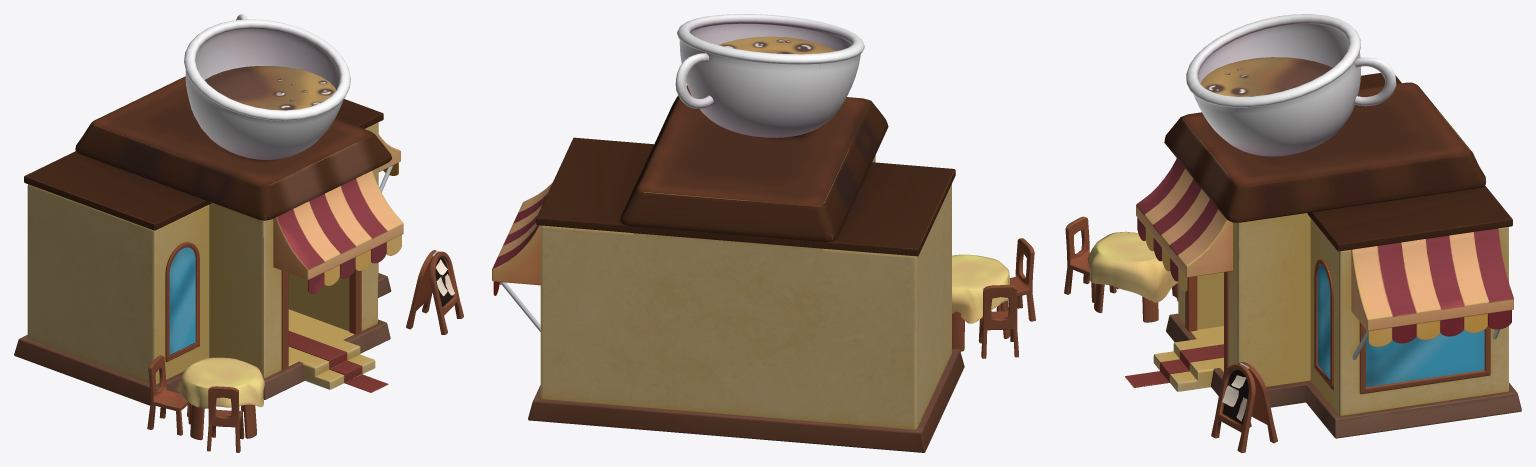
File: building1_lambert1_0.002_lev2.glb
The picture shows the model from 3 angles, left to right: view 1: azimuth 30°, elevation 25°; view 2: azimuth 150°, elevation 25°; view 3: azimuth 270°, elevation 25°; orthographic projection. The views are drawn at different scales.
Parts seen in each view (by area): view 1: building1_lambert1_0.002_lev2; view 2: building1_lambert1_0.002_lev2; view 3: building1_lambert1_0.002_lev2.
Boxes of the visible parts, x1,y1,x2,y2 form: building1_lambert1_0.002_lev2: (14,14,463,452); building1_lambert1_0.002_lev2: (492,14,1035,452); building1_lambert1_0.002_lev2: (1064,14,1521,452).
Size of the model in its own units: 16.72 by 12.82 by 16.51.
1 material, 1 textured.
